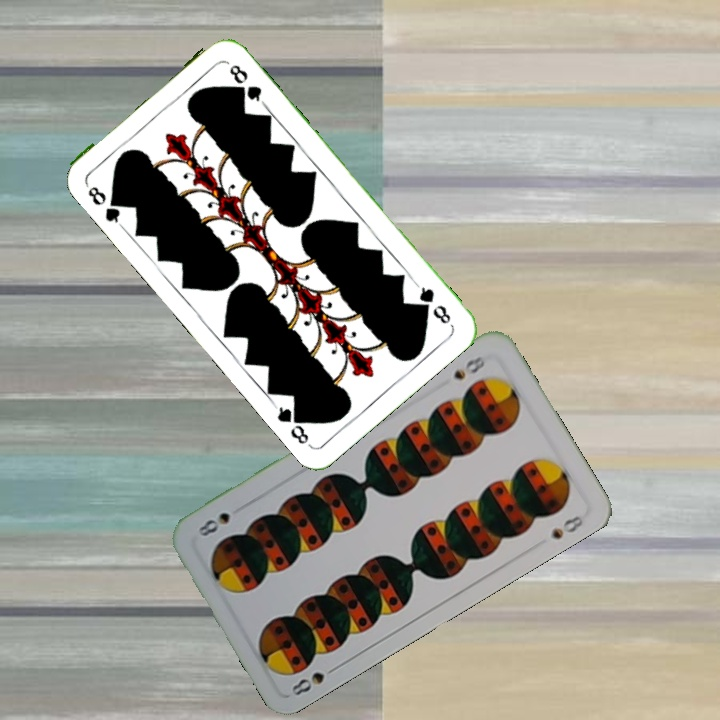G8: (411, 279, 454, 327), (84, 182, 127, 229)
S8: (287, 661, 342, 699), (449, 349, 491, 383)
